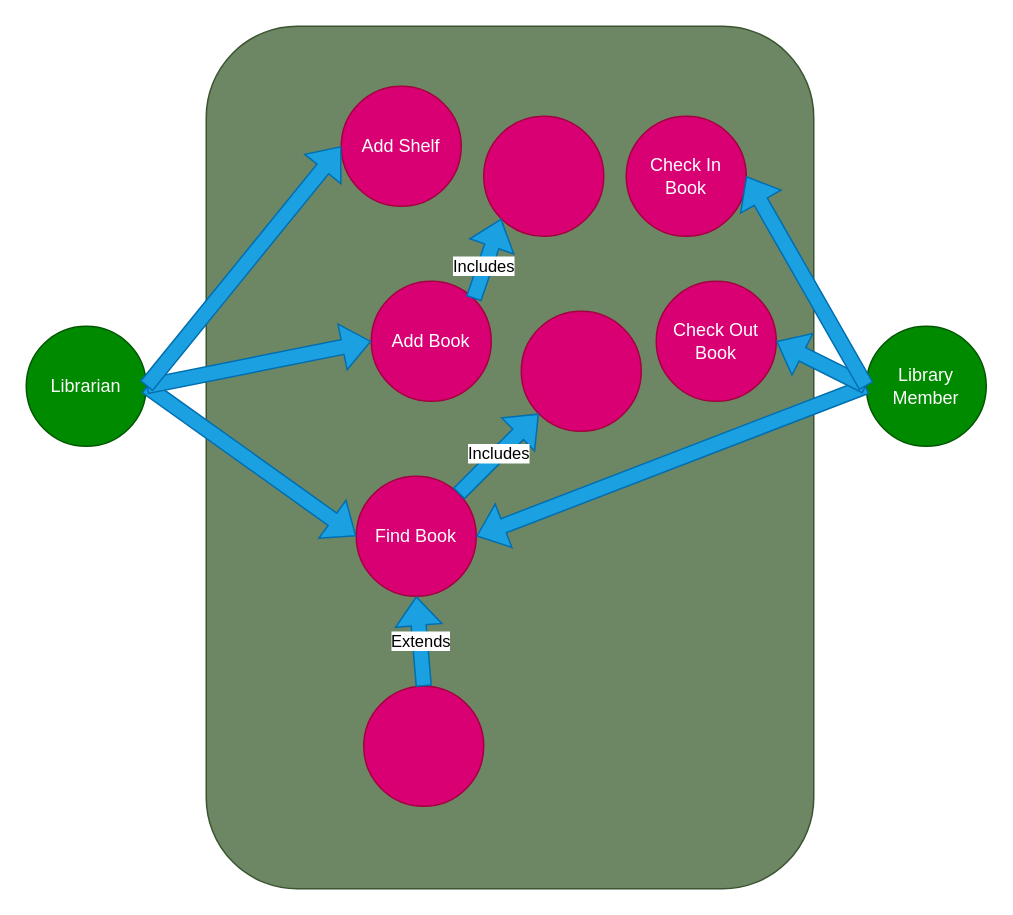
The diagram is 1013 pixels wide and 915 high, and some of its shapes have lost their labels. The shapes that lost their labels are listed below. From the top down, each one's centre as x and y in pixels, then its label:
At point 543,175: "Fill in Book Info".
At point 580,370: "Search Shelves".
At point 423,745: "Book Unavailable".
